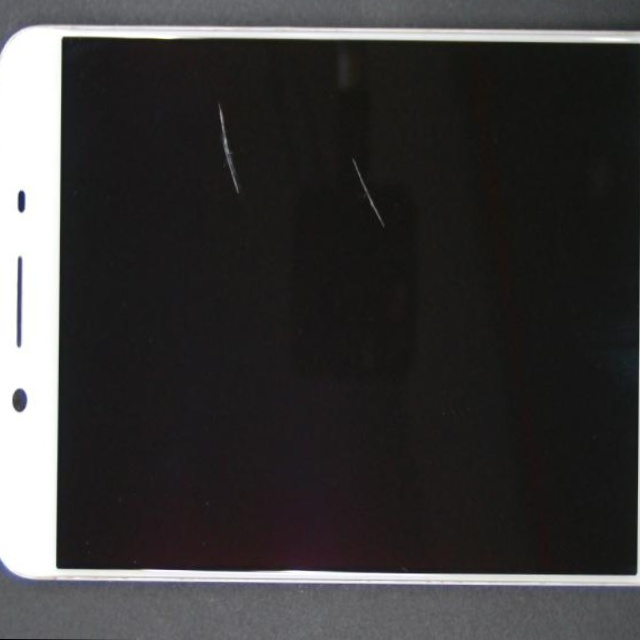scratch: (201, 142, 577, 296), (142, 117, 378, 237)
